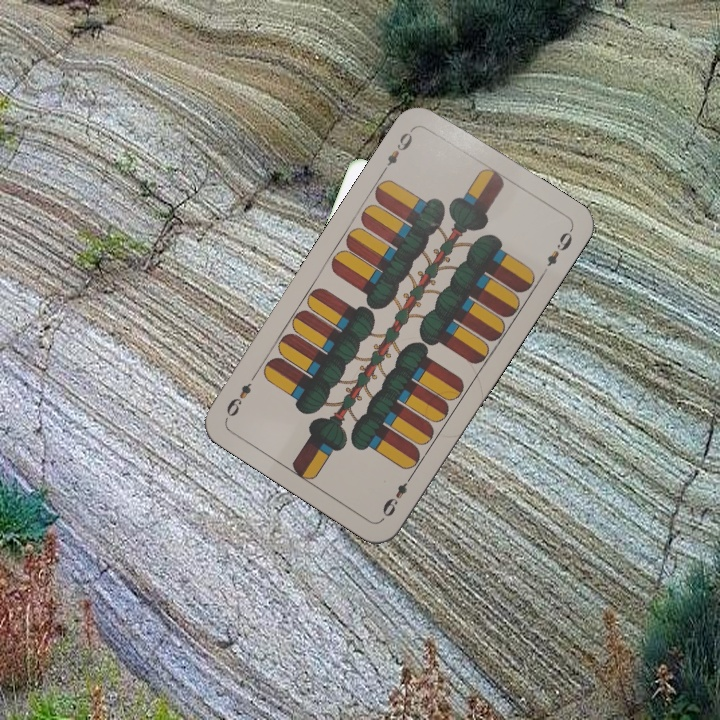E9: (378, 124, 417, 176), (378, 469, 416, 520)
